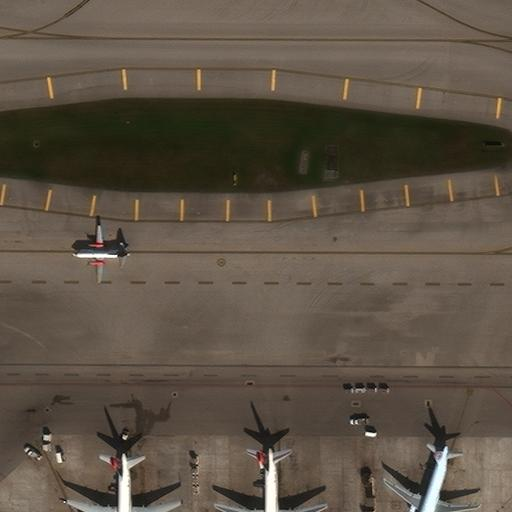Large Civil Transport: (214, 447, 327, 512), (65, 452, 182, 512)
Medium Civil Transport: (383, 445, 479, 512), (71, 225, 131, 283)
